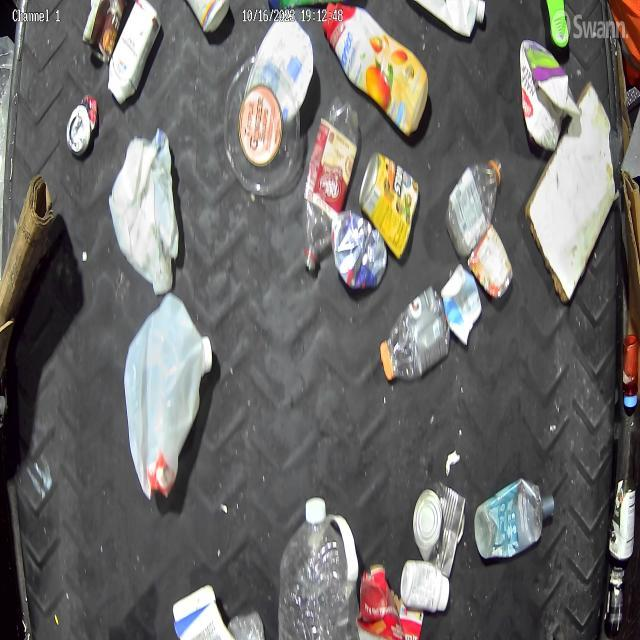can: (356, 148, 419, 264), (412, 478, 467, 580), (466, 221, 515, 302), (607, 474, 637, 566), (64, 94, 100, 158), (604, 565, 624, 634)
milk_jug: (123, 290, 215, 504), (108, 123, 180, 298)
non_white_jug: (321, 0, 431, 140)
plastic_bottle: (275, 496, 358, 640), (301, 95, 361, 278), (442, 151, 504, 262)
